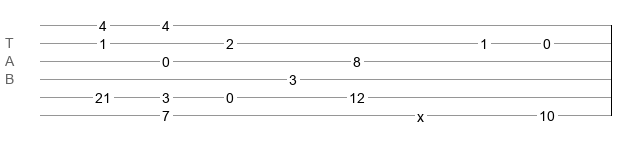0: (162, 54, 170, 64), (226, 90, 234, 100), (543, 36, 551, 46)
1: (99, 36, 107, 46), (480, 36, 488, 46)
10: (539, 108, 555, 118)
12: (349, 90, 365, 100)
2: (226, 36, 234, 46)
21: (95, 90, 111, 100)
3: (162, 90, 170, 100), (289, 72, 297, 82)
4: (99, 18, 107, 28), (162, 18, 170, 28)
7: (162, 108, 170, 118)
8: (353, 54, 361, 64)
x: (417, 109, 424, 117)
